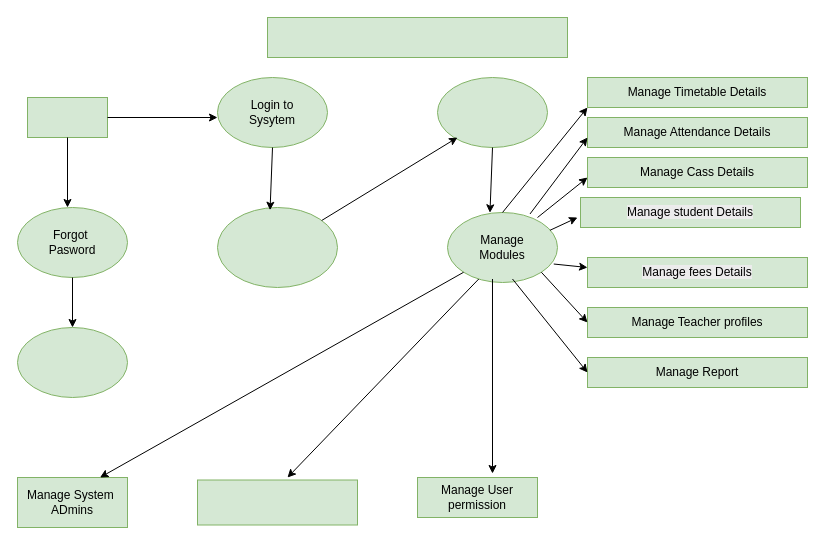
This 825x545 diagram has some shape labels left out. Here are the shapes that lost their labels. From the top down, the box of each, then its label:
(266, 16, 568, 58): Student Management System
(26, 96, 108, 138): Admin
(436, 76, 548, 148): Check Roles of access
(216, 206, 338, 288): Check Credentials
(16, 326, 128, 398): Send Email to user
(196, 479, 358, 525): Manage Roles of user
